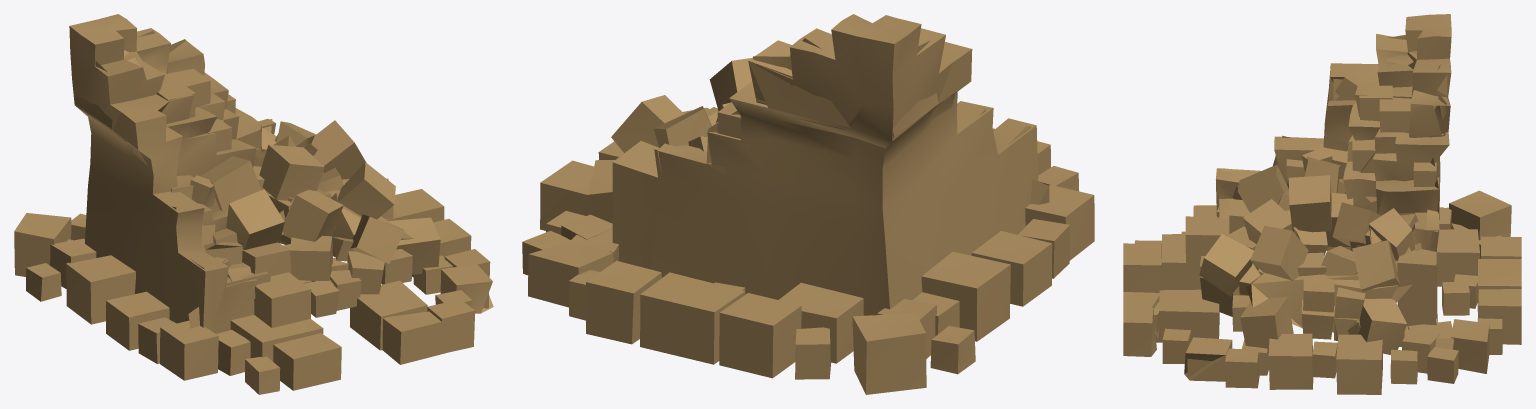
Rendered from castle_d4.3.glb.
3 renders of one model, left to right at view 1: azimuth 30°, elevation 25°; view 2: azimuth 150°, elevation 25°; view 3: azimuth 270°, elevation 25°, orthographic. The views are drawn at different scales.
Parts seen in each view (by area): view 1: castle; view 2: castle; view 3: castle.
Part boxes in pixels (x1,y1,x2,y2): castle: (14, 14, 493, 394); castle: (522, 14, 1094, 394); castle: (1123, 14, 1521, 394).
Bounding box in the file's own units: 2.87 × 1.91 × 2.9.
